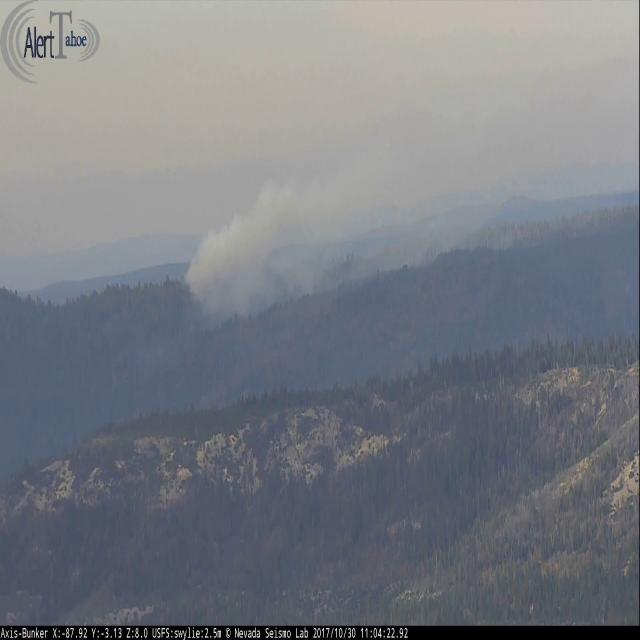smoke: (180, 92, 640, 320)
